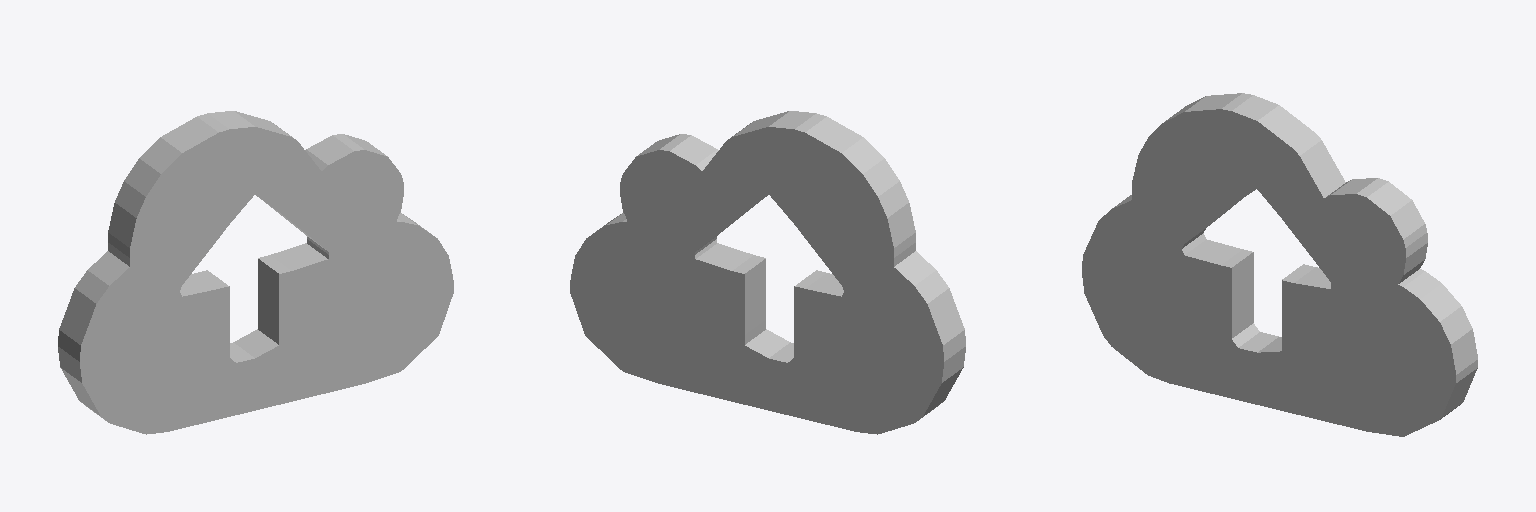
File: fa-cloud-upload.obj
3 views of the same model, side by side, from view 1: azimuth 30°, elevation 25°; view 2: azimuth 150°, elevation 25°; view 3: azimuth 330°, elevation 25° (orthographic).
Bounding box in the file's own units: 1.13 × 0.8315 × 0.1152.